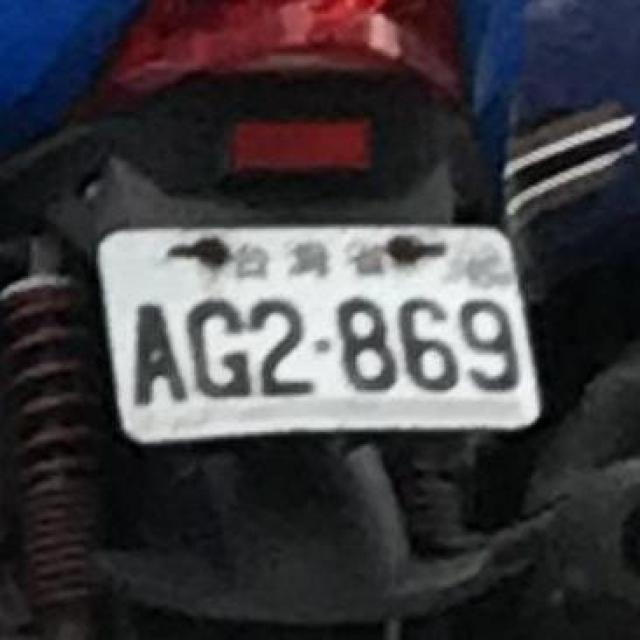W: (84, 177, 553, 478)
